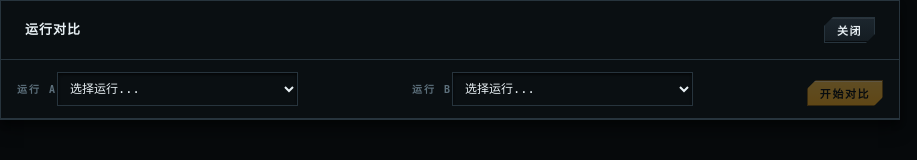
RunCompare › 对比 › 对比中显示'对比中...'
Step 1. Select "2024年8月30日 06:40 — success" in the dropdown next to "运行 A" → (178, 89), box [57,72,298,106]
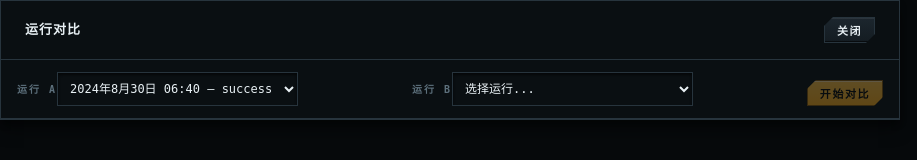
Step 2. Select "2024年8月30日 06:56 — success" in the dropdown next to "运行 B" → (572, 89), box [452,72,693,106]
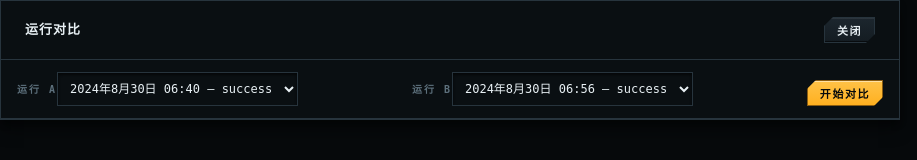
Step 3. Click the button "开始对比" → (845, 93), box [807,80,883,106]
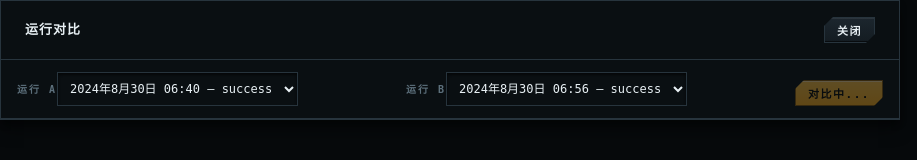
Result: the button "对比中..." is shown at [795,80,883,106]
